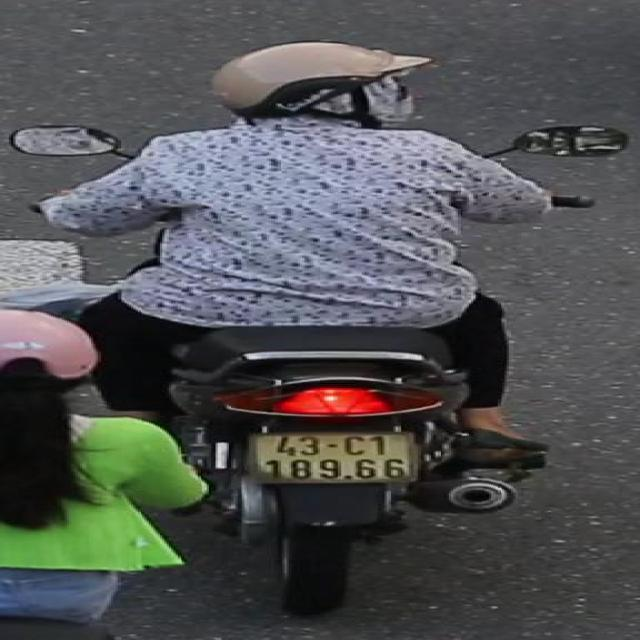LP: (239, 424, 423, 490)
helmet: (195, 36, 436, 141)
